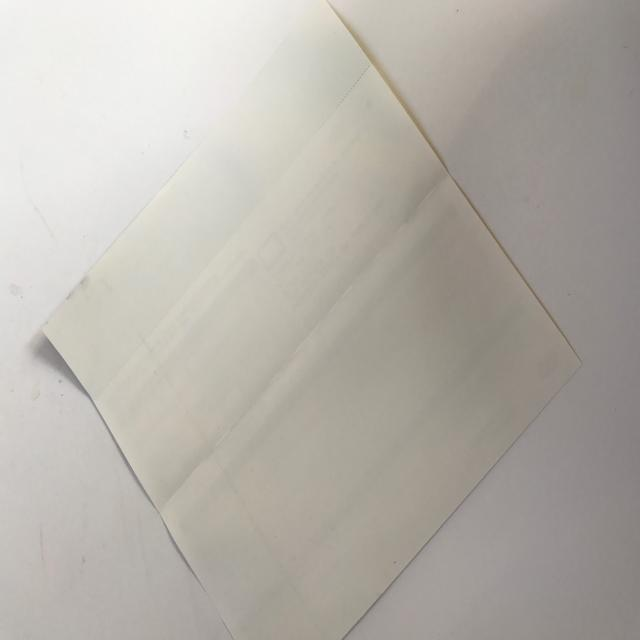paper: (32, 0, 598, 640)
